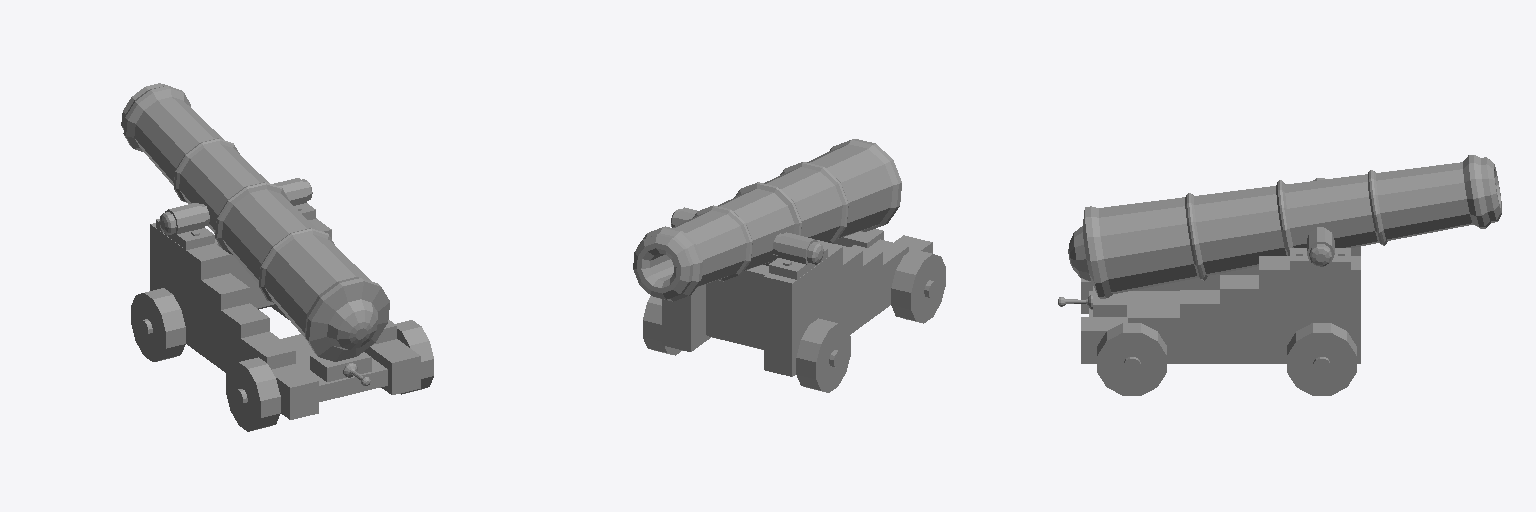
File: cannon.obj
3 renders of one model, left to right at view 1: azimuth 30°, elevation 25°; view 2: azimuth 150°, elevation 25°; view 3: azimuth 270°, elevation 25°, orthographic.
Bounding box in the file's own units: 1.59 × 1.63 × 3.37.